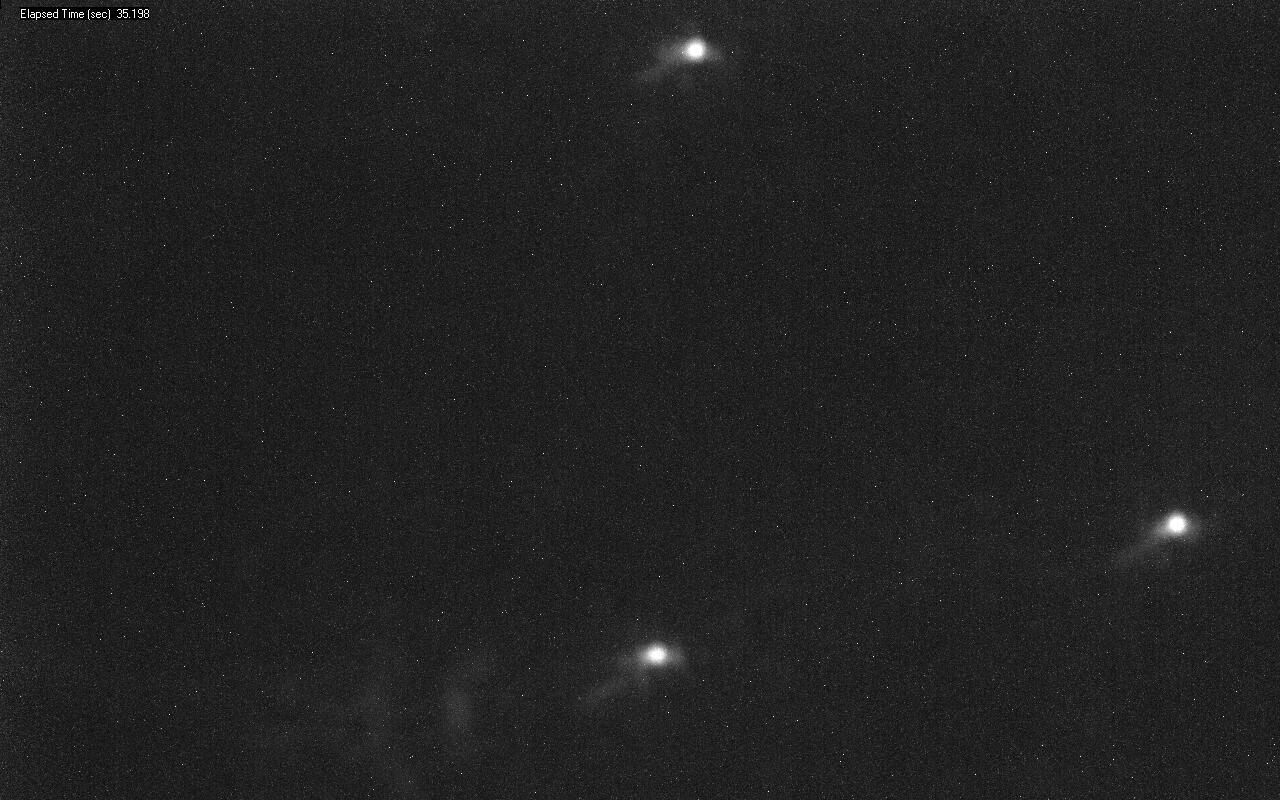Bead: (638, 643, 672, 667), (1161, 513, 1190, 537), (682, 40, 708, 63)
